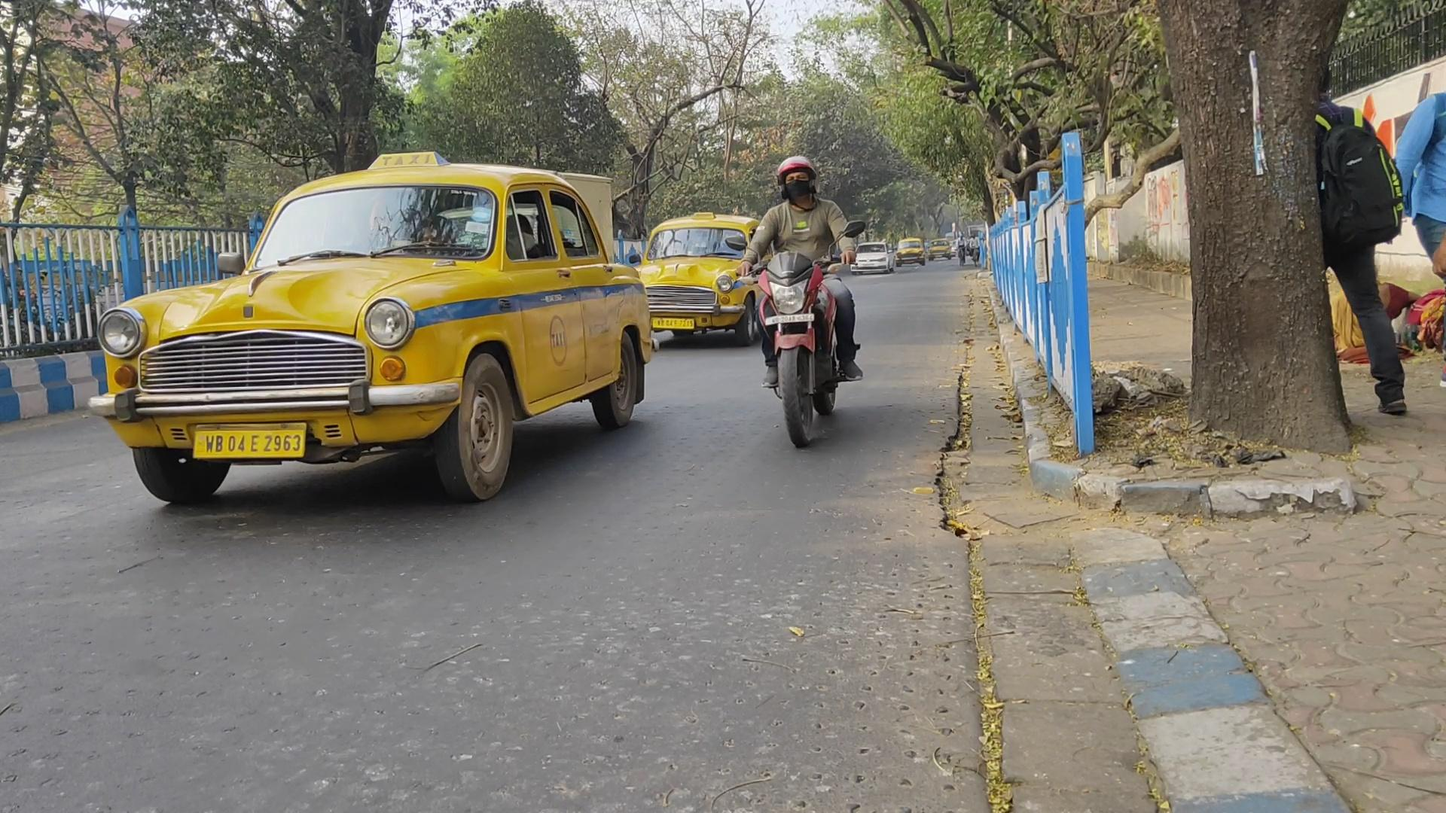bike: (734, 154, 863, 449), (969, 233, 981, 266), (956, 234, 968, 266)
car: (90, 151, 650, 504), (636, 209, 769, 350), (850, 242, 895, 276), (895, 238, 926, 266), (928, 238, 952, 262)
